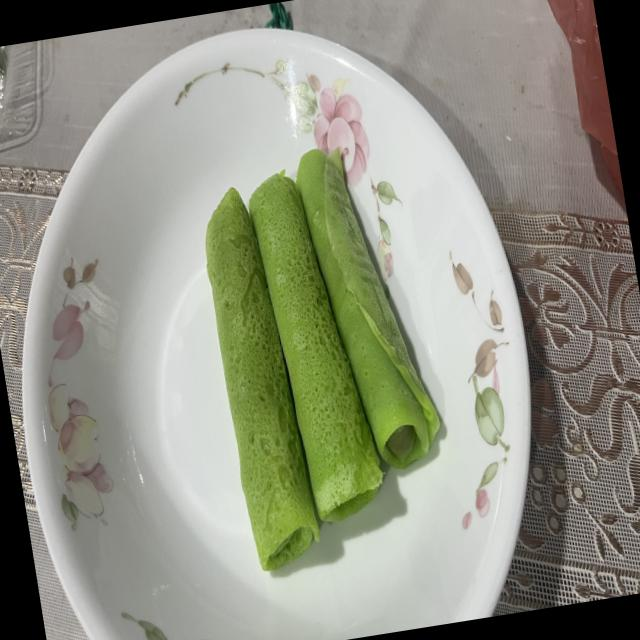Kuih-Ketayap: (249, 170, 383, 520), (297, 148, 440, 469), (206, 187, 320, 571)
